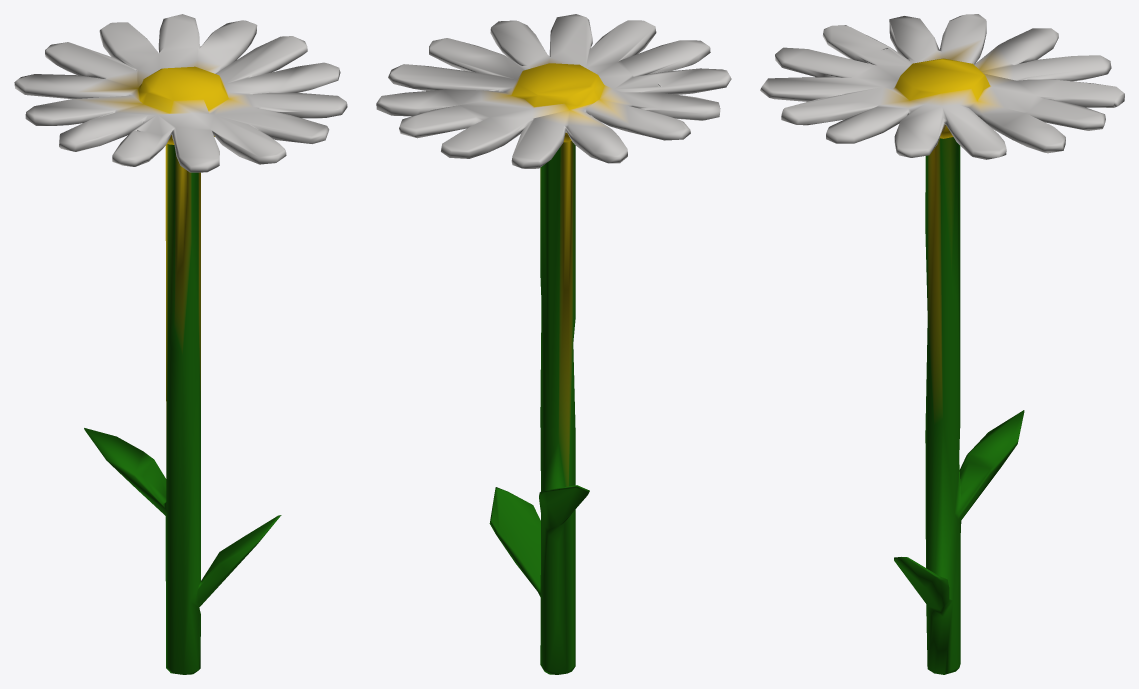
File: gen3d-daisy-lod1.glb
The picture shows the model from 3 angles, left to right: view 1: azimuth 30°, elevation 25°; view 2: azimuth 150°, elevation 25°; view 3: azimuth 270°, elevation 25°; orthographic projection.
Visible parts, largest first — view 1: part_0; view 2: part_0; view 3: part_0.
Part boxes in pixels (box(x1,y1,x2,y2)): part_0: box(14, 14, 347, 674); part_0: box(376, 14, 731, 674); part_0: box(760, 14, 1124, 674).
Bounding box in the file's own units: 0.5105 × 1 × 0.5576.
